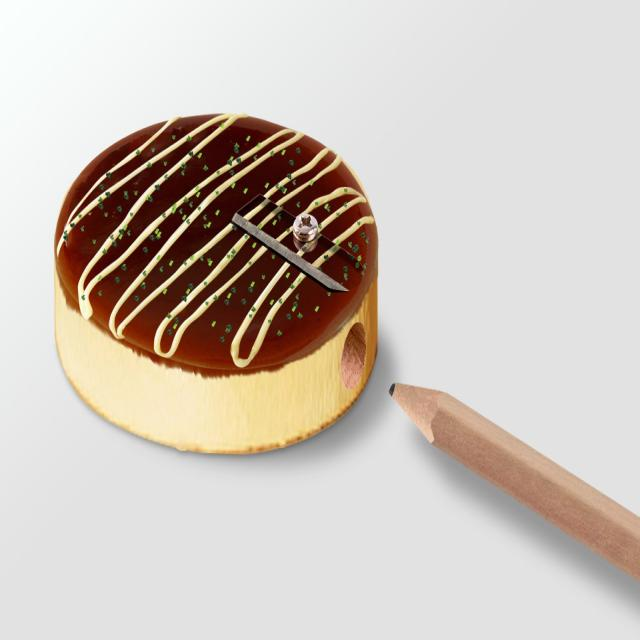pencil: (380, 382, 640, 595)
